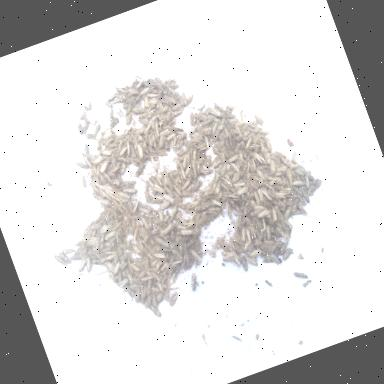pbw: (209, 104, 227, 124), (186, 272, 202, 294), (166, 289, 184, 308), (52, 252, 70, 270), (172, 134, 190, 152), (57, 249, 74, 268), (147, 301, 163, 321), (133, 140, 147, 162), (89, 252, 106, 270), (154, 233, 171, 251), (274, 224, 290, 243), (176, 161, 190, 182), (261, 184, 275, 205), (244, 252, 260, 270), (267, 172, 285, 188), (253, 148, 269, 166), (148, 192, 164, 210), (94, 231, 109, 250), (297, 202, 312, 221), (80, 150, 94, 170), (255, 124, 272, 140), (280, 205, 296, 222), (121, 110, 136, 128), (192, 201, 212, 214), (251, 200, 267, 216), (93, 178, 109, 194), (155, 145, 171, 161), (140, 296, 156, 312), (136, 114, 152, 130), (152, 181, 167, 198), (74, 256, 88, 274), (178, 226, 196, 240), (82, 256, 96, 274), (110, 260, 124, 278), (129, 226, 143, 244), (178, 153, 192, 171), (58, 244, 76, 258), (166, 205, 181, 221), (100, 96, 115, 112), (128, 200, 143, 216), (70, 250, 86, 265), (109, 161, 125, 176), (117, 152, 132, 168), (97, 194, 112, 210), (120, 125, 136, 140), (99, 128, 116, 142), (142, 279, 156, 296), (159, 224, 176, 238), (91, 178, 104, 196), (236, 106, 248, 125), (281, 248, 296, 263), (84, 112, 98, 128), (131, 104, 147, 118), (130, 241, 144, 257), (191, 178, 207, 192), (154, 250, 170, 264), (162, 109, 176, 125), (162, 192, 176, 208), (106, 116, 122, 130), (276, 242, 292, 256), (288, 198, 302, 214), (163, 93, 177, 109), (281, 215, 295, 231), (170, 123, 186, 137), (276, 184, 292, 198), (290, 205, 306, 219), (278, 154, 292, 170), (76, 159, 90, 175), (156, 134, 170, 150), (236, 184, 253, 197), (228, 195, 241, 212), (88, 182, 100, 200), (160, 286, 172, 304), (152, 118, 164, 136), (300, 172, 312, 190), (90, 123, 104, 138), (246, 118, 261, 132), (182, 187, 196, 202), (115, 276, 130, 290), (179, 178, 194, 192), (149, 155, 160, 174), (254, 166, 267, 182), (198, 165, 214, 178), (269, 252, 282, 268), (105, 258, 117, 275), (262, 151, 274, 168), (246, 223, 258, 240), (154, 173, 166, 190), (231, 180, 248, 192), (173, 166, 184, 184), (202, 134, 213, 152), (92, 154, 106, 168), (293, 166, 307, 180), (138, 204, 152, 218), (145, 88, 159, 102), (80, 120, 94, 134), (208, 196, 222, 210), (134, 164, 148, 178), (79, 224, 92, 239), (172, 184, 184, 200), (110, 218, 126, 230), (154, 74, 166, 90), (118, 96, 130, 112), (88, 221, 104, 233), (255, 112, 267, 128), (168, 170, 180, 186), (81, 142, 93, 158), (248, 246, 264, 258), (296, 192, 308, 208), (164, 184, 176, 200), (232, 254, 244, 270), (263, 226, 274, 243), (145, 134, 156, 151), (225, 205, 236, 222), (112, 83, 126, 96), (261, 255, 275, 268), (272, 189, 286, 202), (90, 237, 102, 252), (124, 185, 139, 197), (256, 186, 266, 204), (134, 129, 146, 144), (103, 246, 118, 258), (224, 100, 239, 112), (164, 76, 179, 88), (168, 257, 184, 268), (123, 140, 134, 156), (290, 150, 301, 166), (74, 122, 85, 138), (186, 110, 197, 126), (182, 219, 198, 230), (244, 227, 254, 244), (255, 210, 272, 220), (98, 160, 110, 174), (220, 248, 234, 260), (292, 178, 306, 190), (132, 290, 144, 304), (104, 229, 118, 241), (92, 138, 104, 152), (77, 107, 89, 121), (138, 86, 152, 98), (134, 214, 146, 228), (116, 190, 130, 202), (220, 180, 232, 194), (160, 272, 172, 286), (102, 172, 114, 186), (231, 162, 243, 176), (222, 253, 236, 265), (190, 164, 202, 178), (190, 149, 202, 163), (190, 250, 202, 264), (128, 260, 140, 274), (158, 128, 172, 140), (219, 98, 230, 113), (213, 100, 224, 115), (270, 208, 280, 224), (235, 124, 245, 140), (142, 140, 152, 156), (155, 208, 165, 224), (142, 94, 152, 110), (232, 248, 242, 264), (154, 290, 166, 303), (86, 132, 98, 145), (117, 145, 130, 157), (152, 270, 164, 283), (212, 158, 225, 170), (100, 147, 113, 159), (127, 88, 140, 100), (243, 138, 255, 151), (155, 278, 166, 292), (261, 208, 272, 222), (166, 132, 180, 143), (173, 190, 184, 204), (227, 153, 241, 164), (158, 200, 172, 211), (73, 237, 87, 248), (116, 204, 127, 218), (243, 191, 257, 202), (194, 102, 208, 113), (140, 274, 155, 284), (79, 174, 89, 189), (190, 111, 200, 126), (238, 227, 248, 242), (106, 107, 116, 122), (126, 269, 136, 284), (184, 152, 194, 167), (105, 252, 120, 262), (128, 78, 140, 90), (106, 90, 118, 102), (230, 173, 242, 185), (144, 249, 155, 262), (125, 286, 135, 300), (118, 162, 128, 176), (150, 136, 160, 150), (94, 268, 108, 278), (251, 152, 261, 166), (159, 261, 171, 272), (136, 124, 147, 136), (176, 222, 188, 233), (133, 154, 144, 166), (208, 124, 219, 136), (214, 121, 226, 132), (226, 109, 238, 120), (125, 177, 137, 188), (149, 226, 161, 237), (186, 237, 198, 248), (118, 260, 129, 272), (260, 217, 269, 231), (185, 96, 196, 107), (266, 178, 278, 188), (208, 156, 220, 166), (174, 107, 186, 117), (86, 172, 94, 186), (187, 125, 198, 135), (109, 140, 120, 150), (116, 139, 126, 150), (160, 215, 171, 225), (248, 210, 260, 219), (102, 138, 114, 147), (82, 242, 90, 255), (212, 186, 222, 196), (242, 242, 252, 252), (203, 156, 212, 167), (86, 100, 94, 112), (116, 269, 124, 281), (150, 284, 159, 293), (82, 103, 90, 113), (88, 166, 96, 176), (133, 160, 141, 169), (104, 142, 112, 148)
